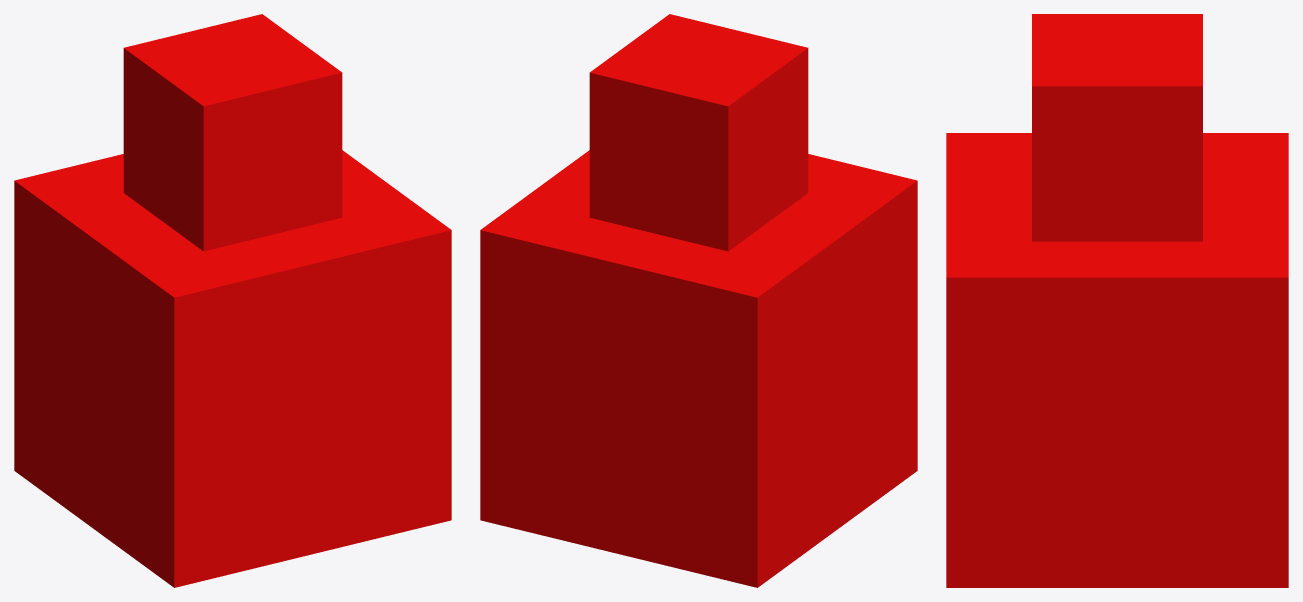
The model's file is towerRed (5).glb.
3 renders of one model, left to right at view 1: azimuth 30°, elevation 25°; view 2: azimuth 150°, elevation 25°; view 3: azimuth 270°, elevation 25°, orthographic. The views are drawn at different scales.
Parts seen in each view (by area): view 1: Cube.003; view 2: Cube.003; view 3: Cube.003.
Part boxes in pixels (bbox=[...]): Cube.003: bbox=[14, 14, 451, 587]; Cube.003: bbox=[480, 14, 917, 587]; Cube.003: bbox=[946, 14, 1288, 587].
Size of the model in its own units: 2.5 by 3.75 by 2.5.
